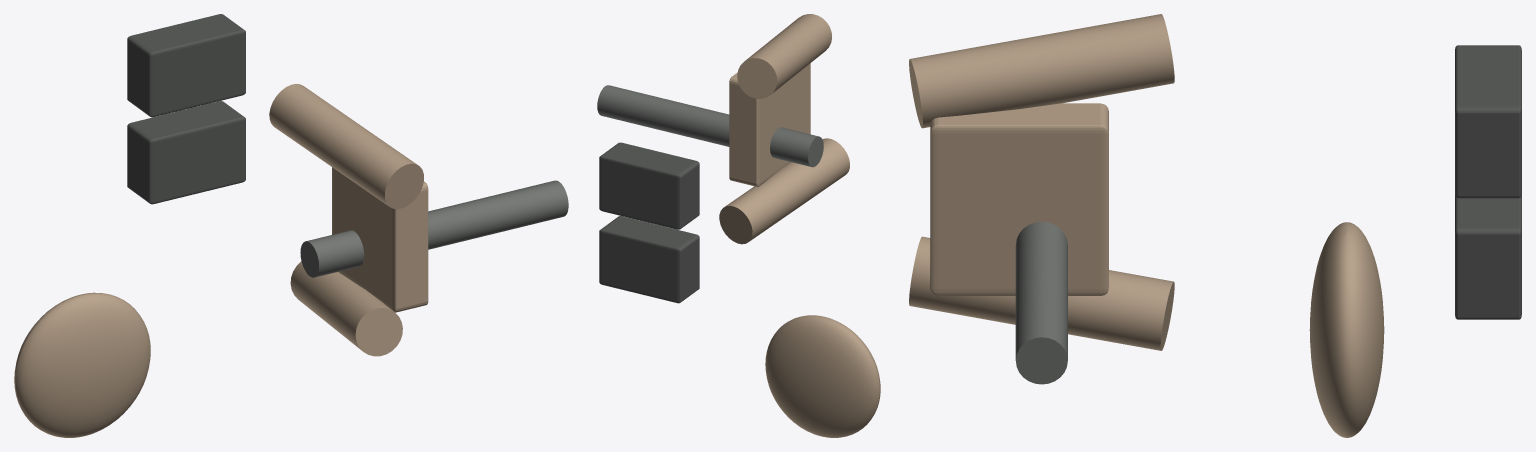
File: d-u06-dominion-combat-medic-lod2.glb
3 views of the same model, side by side, from view 1: azimuth 30°, elevation 25°; view 2: azimuth 150°, elevation 25°; view 3: azimuth 270°, elevation 25° (orthographic). The views are drawn at different scales.
Parts seen in each view (by area): view 1: medic_drone, soldier_0_boot_-1, soldier_0_boot_1, soldier_0_chest, soldier_0_arm_1, soldier_0_rifle, soldier_0_arm_-1; view 2: medic_drone, soldier_0_boot_-1, soldier_0_boot_1, soldier_0_chest, soldier_0_rifle, soldier_0_arm_-1, soldier_0_arm_1; view 3: soldier_0_chest, soldier_0_arm_1, medic_drone, soldier_0_boot_1, soldier_0_arm_-1, soldier_0_boot_-1, soldier_0_rifle.
Part boxes in pixels (<box>): medic_drone: <box>14,292,150,437</box>; soldier_0_boot_-1: <box>127,101,245,204</box>; soldier_0_boot_1: <box>127,14,245,117</box>; soldier_0_chest: <box>332,167,428,312</box>; soldier_0_arm_1: <box>269,84,423,209</box>; soldier_0_rifle: <box>300,180,568,277</box>; soldier_0_arm_-1: <box>290,261,402,356</box>; medic_drone: <box>765,315,880,437</box>; soldier_0_boot_-1: <box>599,216,699,303</box>; soldier_0_boot_1: <box>599,142,699,229</box>; soldier_0_chest: <box>729,63,810,186</box>; soldier_0_rifle: <box>597,85,823,167</box>; soldier_0_arm_-1: <box>719,138,849,244</box>; soldier_0_arm_1: <box>737,14,831,98</box>; soldier_0_chest: <box>930,103,1108,295</box>; soldier_0_arm_1: <box>909,14,1174,128</box>; medic_drone: <box>1309,222,1384,437</box>; soldier_0_boot_1: <box>1455,45,1521,198</box>; soldier_0_arm_-1: <box>909,236,1174,350</box>; soldier_0_boot_-1: <box>1455,194,1521,319</box>; soldier_0_rifle: <box>1015,221,1067,384</box>.
Size of what is drawn, in the model's own units: 1.88 by 1.51 by 1.65.
